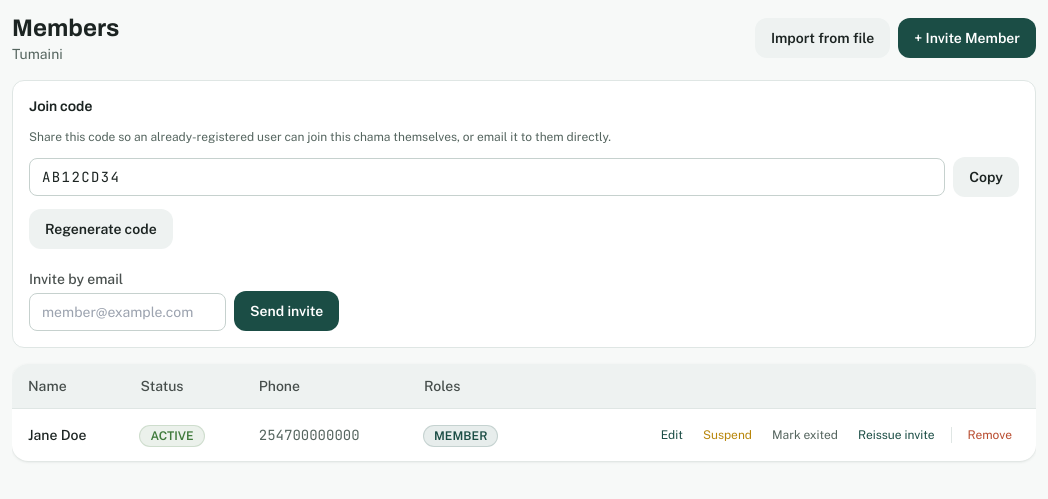
Scenario: MembersPage › shows an error when the join-code invite fails
This screenshot has width=1048, height=499.
Expected: the text "Jane Doe" is shown, x1=28 y1=427 x2=86 y2=443
Type "prospect@example.com" into the field labelled "Invite by email" at (128, 312), box x1=29 y1=293 x2=226 y2=331
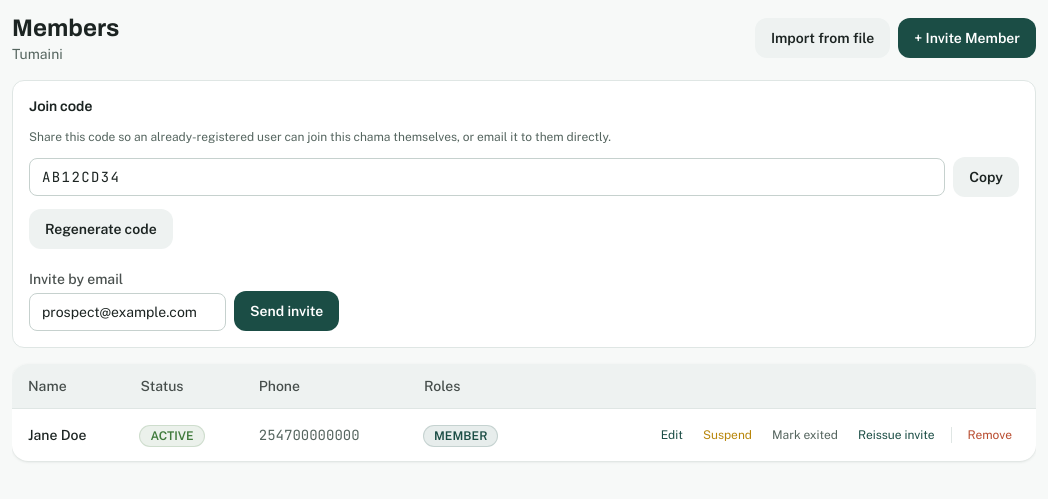
Click the button "Send invite" at (287, 311), box x1=234 y1=291 x2=339 y2=331
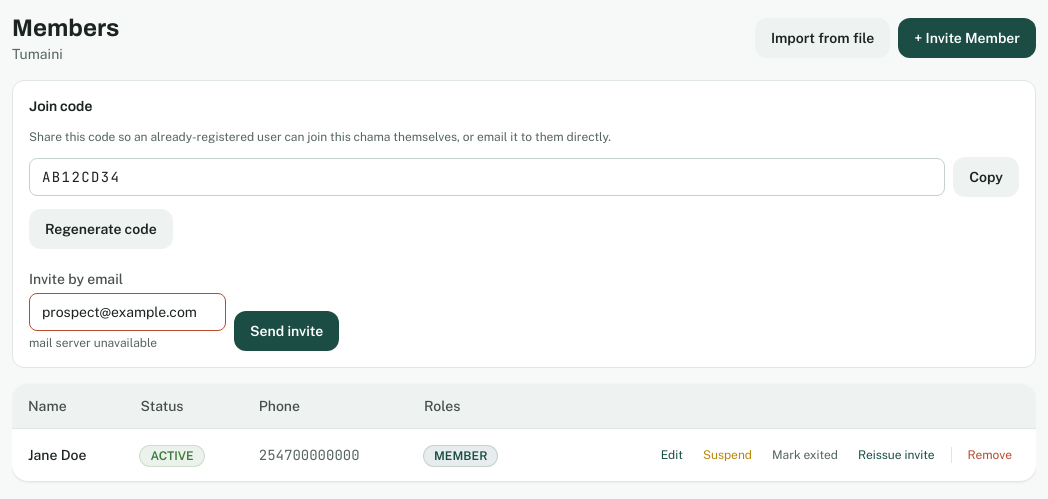
Expected: the text "mail server unavailable" is shown, x1=29 y1=336 x2=157 y2=350
